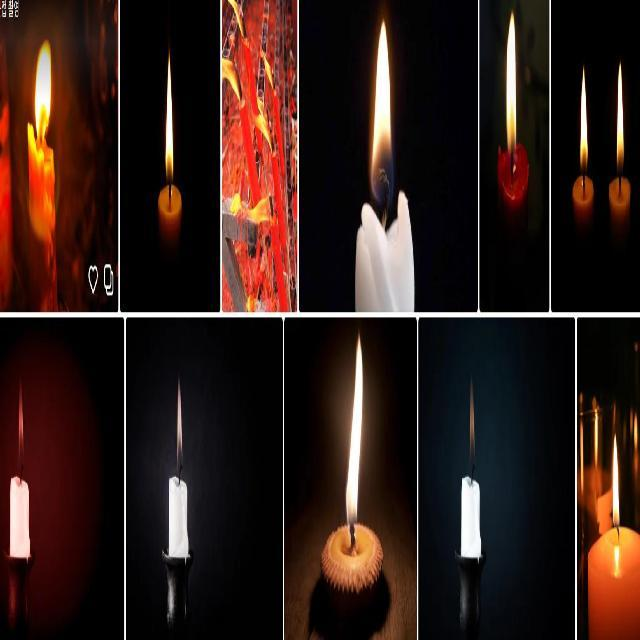Fire: (371, 20, 393, 214), (347, 334, 362, 542), (35, 36, 51, 144), (507, 8, 516, 158), (166, 49, 173, 190), (580, 66, 588, 182), (616, 61, 624, 176), (612, 433, 620, 531), (470, 371, 476, 481), (176, 378, 182, 476)
